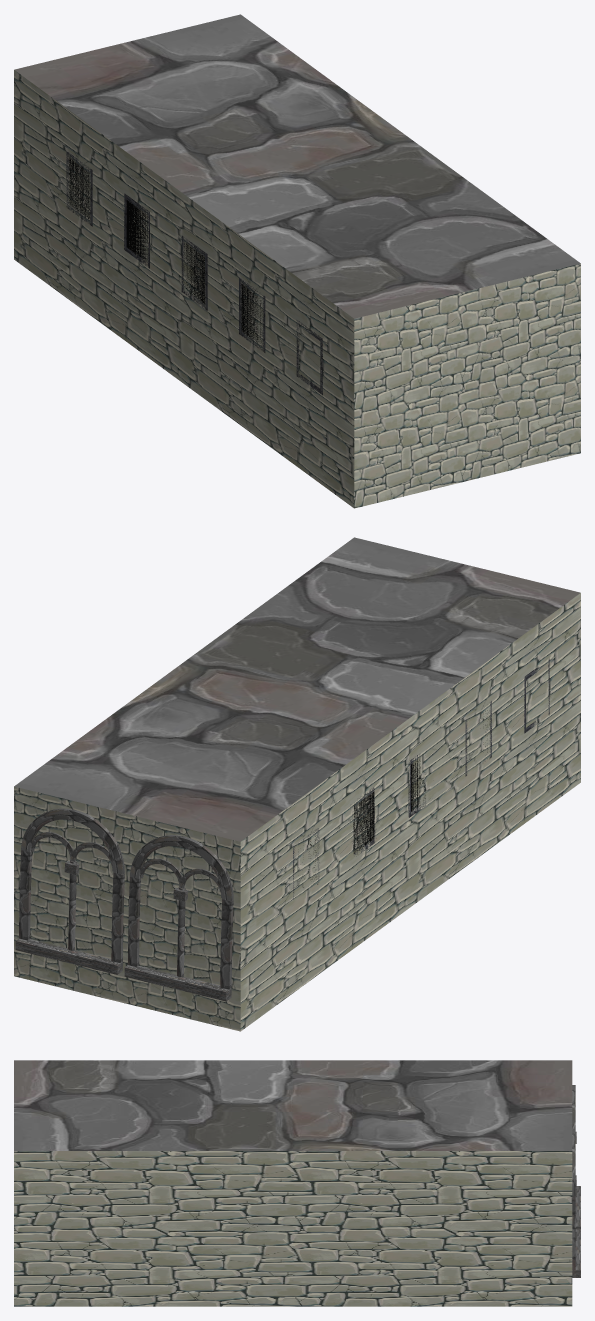
Rendered from salle7_moins_poly.obj.
3 renders of one model, top to bottom at view 1: azimuth 30°, elevation 25°; view 2: azimuth 150°, elevation 25°; view 3: azimuth 270°, elevation 25°, orthographic. The views are drawn at different scales.
Parts seen in each view (by area): view 1: salle7:pPlane4 salle7:polySurface1 polySurface39, pPlane1, salle7:pCube4 salle7:polySurface1 polySurface37, pasted__pasted__group1_pasted__pasted__pasted__polySurface99 pol; view 2: salle7:pPlane4 salle7:polySurface1 polySurface39, pPlane1, salle7:pCube4 salle7:polySurface1 polySurface37, salle7:PM salle7:Windows salle7:group14_pasted__polySurface59 sa, salle7:PM4 salle7:Windows4 salle7:group16 salle7:pasted__group14, pasted__pasted__group1_pasted__pasted__pasted__polySurface99 pol; view 3: salle7:pCube4 salle7:polySurface1 polySurface37, salle7:pPlane4 salle7:polySurface1 polySurface39, salle7:PM salle7:Windows salle7:group14_pasted__polySurface59 sa, salle7:PM4 salle7:Windows4 salle7:group16 salle7:pasted__group14.
Part boxes in pixels (bbox=[...]): salle7:pPlane4 salle7:polySurface1 polySurface39: bbox=[14, 14, 580, 318]; pPlane1: bbox=[14, 70, 354, 508]; salle7:pCube4 salle7:polySurface1 polySurface37: bbox=[354, 263, 580, 508]; pasted__pasted__group1_pasted__pasted__pasted__polySurface99 pol: bbox=[66, 151, 322, 395]; salle7:pPlane4 salle7:polySurface1 polySurface39: bbox=[14, 537, 580, 841]; pPlane1: bbox=[240, 593, 580, 1031]; salle7:pCube4 salle7:polySurface1 polySurface37: bbox=[14, 786, 240, 1031]; salle7:PM salle7:Windows salle7:group14_pasted__polySurface59 sa: bbox=[15, 808, 124, 974]; salle7:PM4 salle7:Windows4 salle7:group16 salle7:pasted__group14: bbox=[124, 835, 233, 1001]; pasted__pasted__group1_pasted__pasted__pasted__polySurface99 pol: bbox=[293, 658, 549, 899]; salle7:pCube4 salle7:polySurface1 polySurface37: bbox=[14, 1151, 572, 1306]; salle7:pPlane4 salle7:polySurface1 polySurface39: bbox=[14, 1060, 572, 1150]; salle7:PM salle7:Windows salle7:group14_pasted__polySurface59 sa: bbox=[572, 1128, 580, 1277]; salle7:PM4 salle7:Windows4 salle7:group16 salle7:pasted__group14: bbox=[572, 1085, 580, 1229].
Size of the model in its own units: 50 by 40 by 132.
7 materials, 7 textured.
